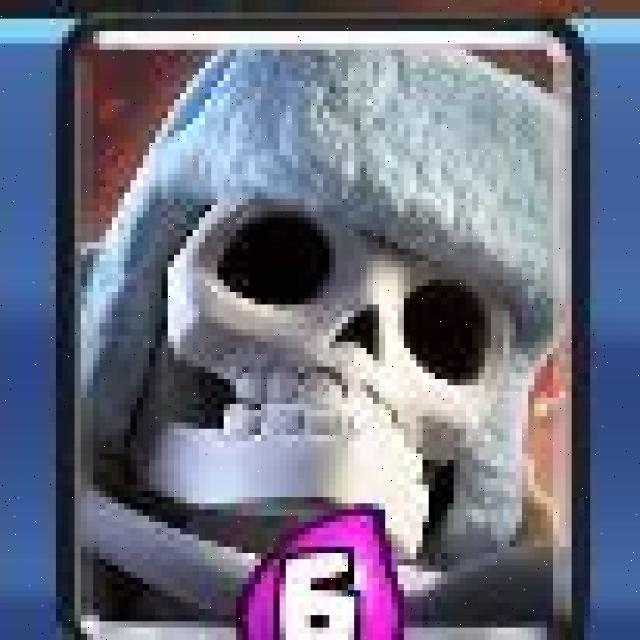Giant_Skeleton: (55, 17, 589, 640)
